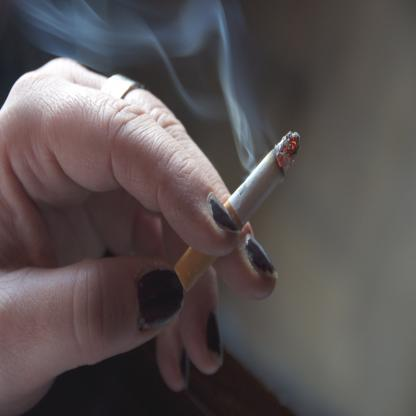cigarette: (172, 127, 304, 296)
smoke: (80, 0, 228, 71), (202, 8, 257, 174)
